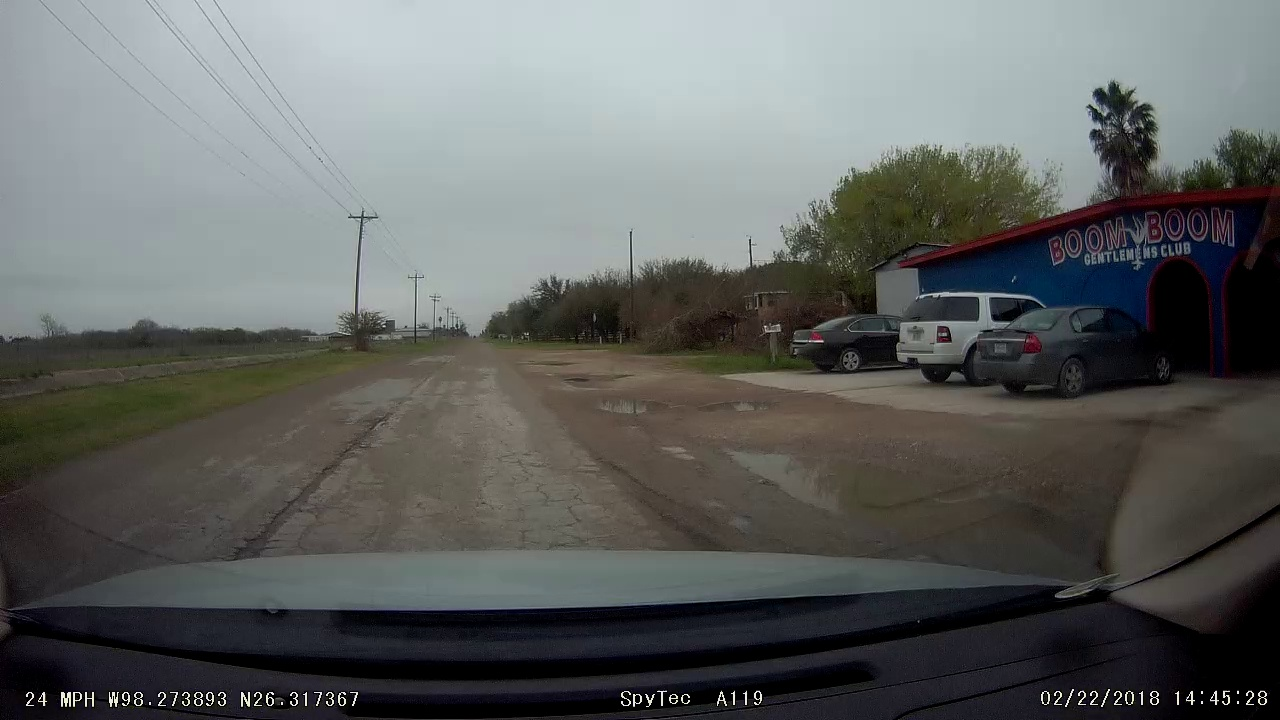alligatorCrack: (507, 444, 595, 546), (413, 475, 480, 548)
crack: (241, 419, 375, 543)
